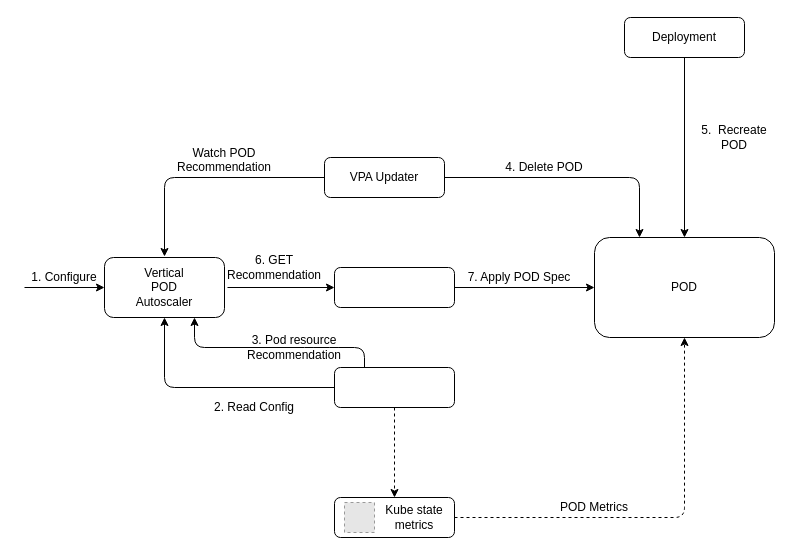
The diagram is 792 pixels wide and 555 high, and some of its shapes have lost their labels. Grey dashed boxes stand in for pictures. The shapes that lost their labels are listed below. From the top down, each one's centre as x and y in pixels, then its label:
At (x=394, y=287): "VPA Admission Controller".
At (x=394, y=387): "Vertical Recommender".
